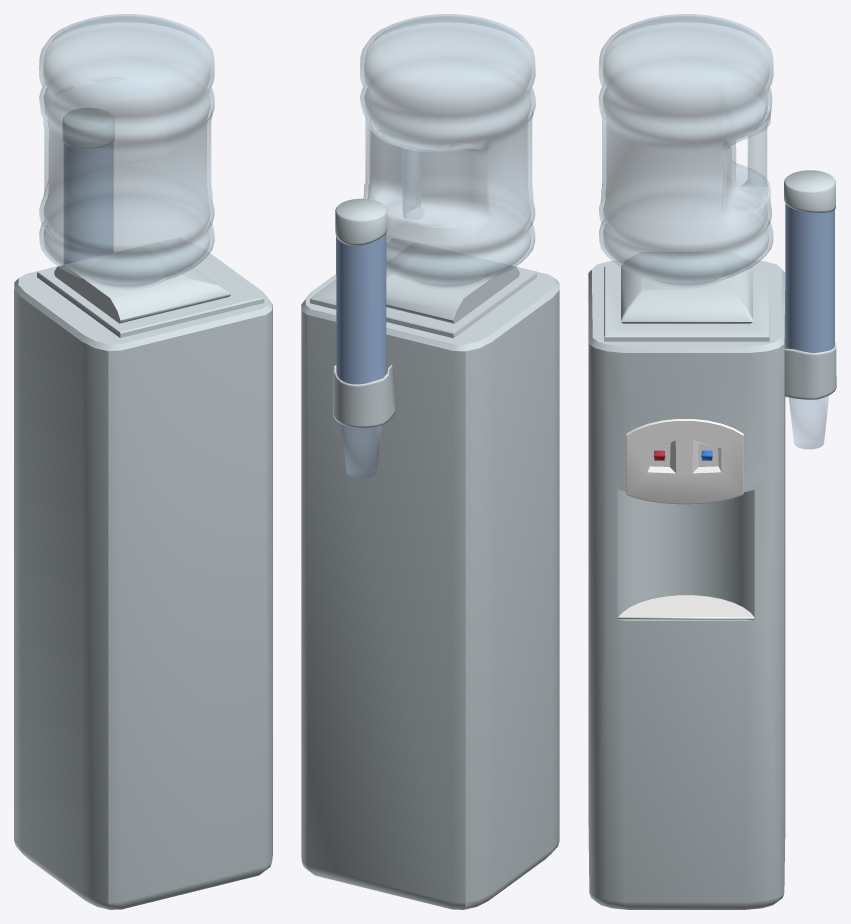
File: dispenser.glb
3 views of the same model, side by side, from view 1: azimuth 30°, elevation 25°; view 2: azimuth 150°, elevation 25°; view 3: azimuth 270°, elevation 25° (orthographic).
Parts seen in each view (by area): view 1: water_dispenser, water_jug, water, water_jug_stand, cup_holder_mid, cup_holder_top; view 2: water_dispenser, water_jug, water, water_jug_stand, cup_holder_mid, cup_holder_bot, cup_holder_top, cup, water_jug_handle; view 3: water_dispenser, water_jug, water, water_jug_stand, water_taps_base, cup_holder_mid, drip_tray, cup_holder_bot, cup_holder_top, cup, water_jug_handle.
Part boxes in pixels (box(x1,y1,x2,y2)): water_dispenser: box(14, 240, 272, 909); water_jug: box(39, 14, 214, 289); water: box(43, 23, 209, 281); water_jug_stand: box(37, 237, 264, 337); cup_holder_mid: box(64, 142, 113, 264); cup_holder_top: box(63, 108, 114, 148); water_dispenser: box(301, 240, 559, 909); water_jug: box(360, 14, 535, 289); water: box(364, 23, 530, 281); water_jug_stand: box(310, 238, 536, 338); cup_holder_mid: box(336, 233, 386, 384); cup_holder_bot: box(333, 364, 395, 427); cup_holder_top: box(335, 198, 387, 245); cup: box(341, 424, 381, 478); water_jug_handle: box(402, 147, 424, 219); water_dispenser: box(588, 260, 785, 909); water_jug: box(599, 14, 773, 288); water: box(603, 23, 768, 279); water_jug_stand: box(604, 252, 769, 341); water_taps_base: box(626, 419, 743, 504); cup_holder_mid: box(785, 203, 834, 352); drip_tray: box(617, 595, 754, 619); cup_holder_bot: box(784, 331, 836, 399); cup_holder_top: box(784, 170, 835, 212); cup: box(789, 395, 828, 448); water_jug_handle: box(740, 118, 769, 194).
Bounding box in the file's own units: 0.3597 × 1.49 × 0.4087.
